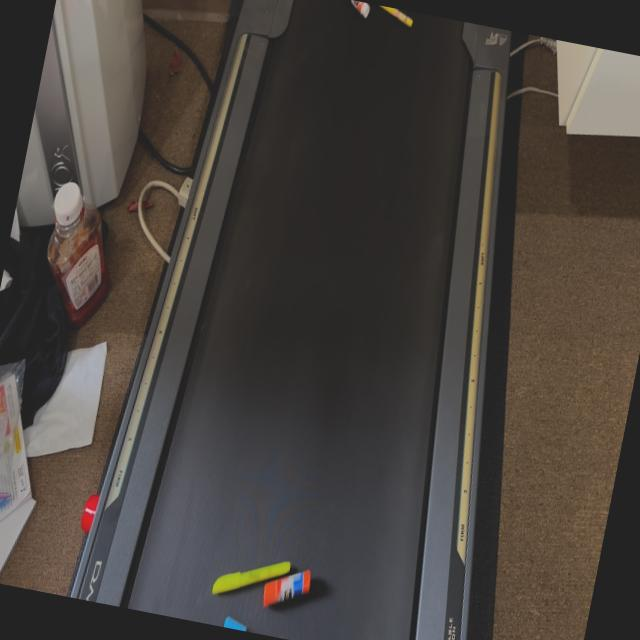Trash: (210, 548, 292, 610), (260, 560, 314, 614), (223, 612, 250, 632)
